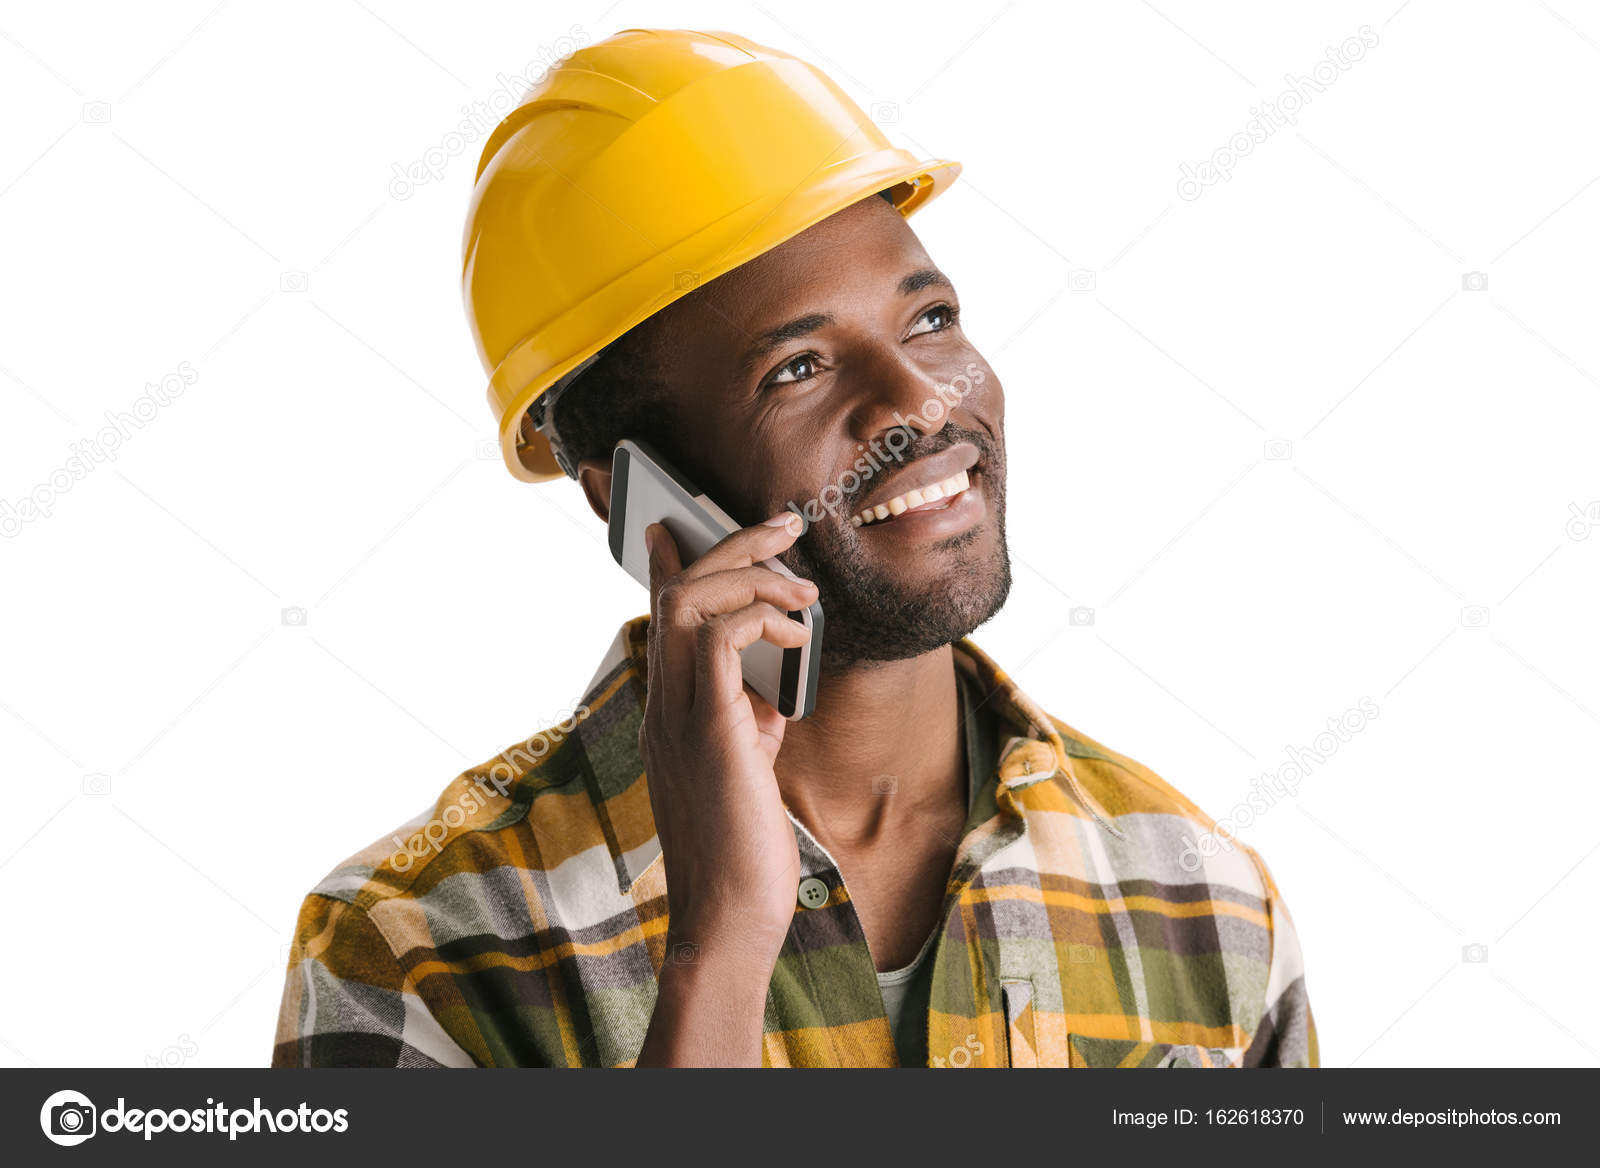casco: (453, 24, 969, 487)
